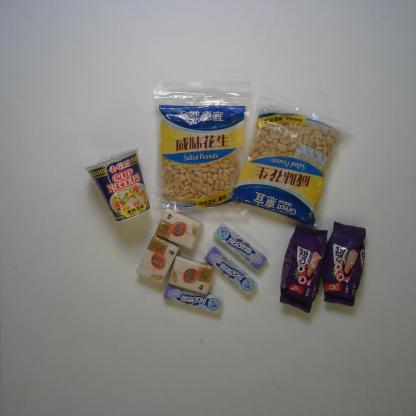Candy: (210, 219, 272, 274), (201, 246, 261, 298), (159, 283, 225, 316)
Dessert: (277, 224, 334, 316), (317, 220, 370, 309)
Dried Fruit: (226, 90, 352, 229), (147, 73, 258, 214)
Instant Noodles: (84, 144, 153, 225)
Tissue: (134, 235, 184, 285), (165, 253, 219, 298), (153, 205, 205, 251)
